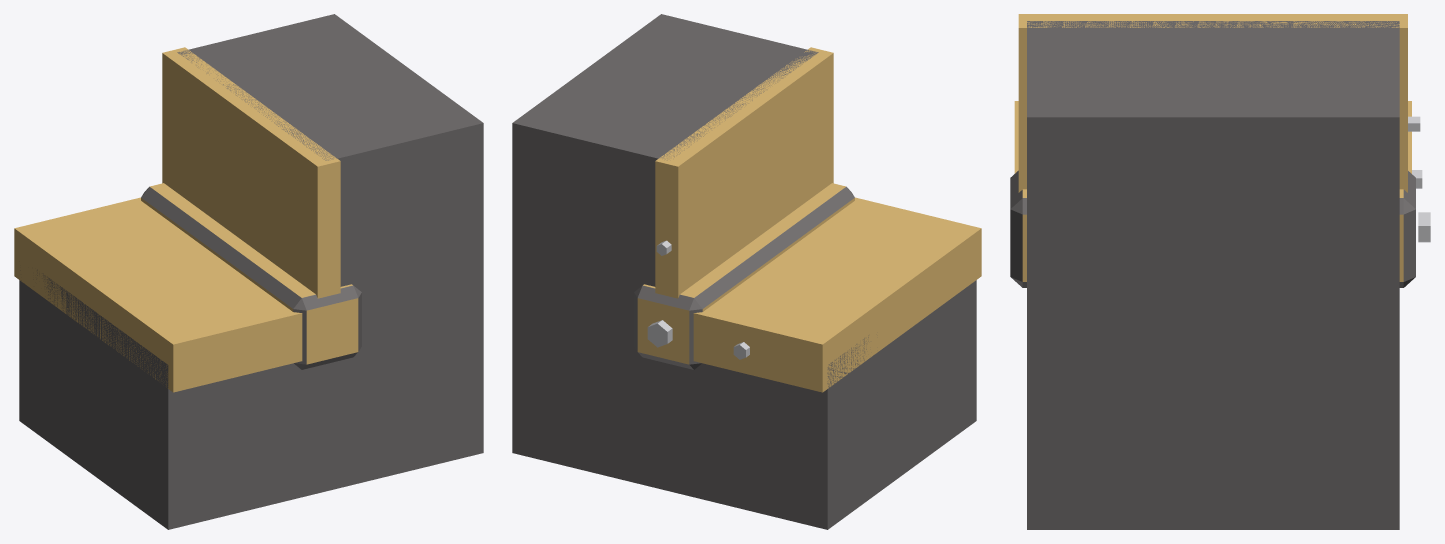
Rendered from CO_Tile_7.fbx.
The picture shows the model from 3 angles, left to right: view 1: azimuth 30°, elevation 25°; view 2: azimuth 150°, elevation 25°; view 3: azimuth 270°, elevation 25°; orthographic projection. The views are drawn at different scales.
Visible parts, largest first — view 1: CO_Tile_7; view 2: CO_Tile_7; view 3: CO_Tile_7.
Boxes of the visible parts, bbox=[...] form: CO_Tile_7: bbox=[14, 14, 483, 529]; CO_Tile_7: bbox=[512, 14, 981, 529]; CO_Tile_7: bbox=[1010, 14, 1430, 529].
Bounding box in the file's own units: 1.1 × 1.1 × 1.02.
